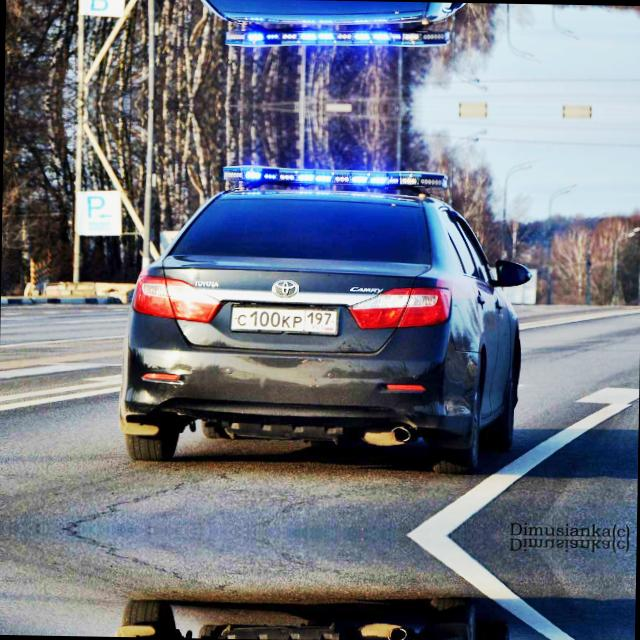citizen: (226, 299, 344, 338)
